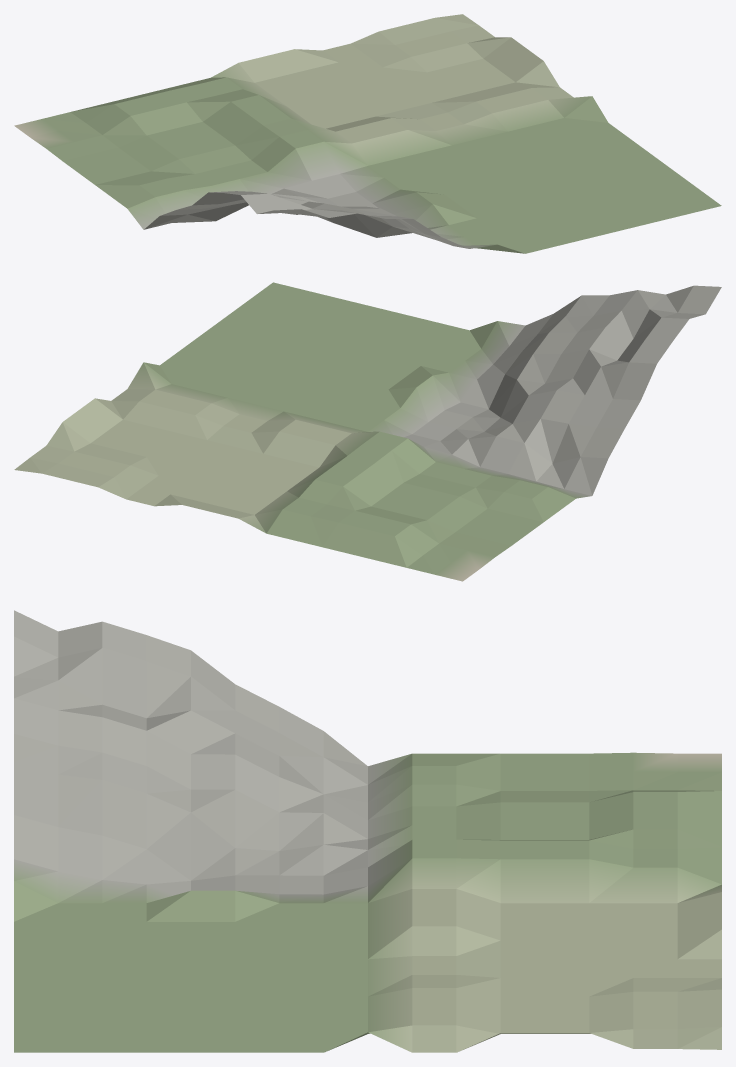
The picture shows the model from 3 angles, top to bottom: view 1: azimuth 30°, elevation 25°; view 2: azimuth 150°, elevation 25°; view 3: azimuth 270°, elevation 25°; orthographic projection. The views are drawn at different scales.
Bounding box in the file's own units: 32 × 7.9 × 32.
